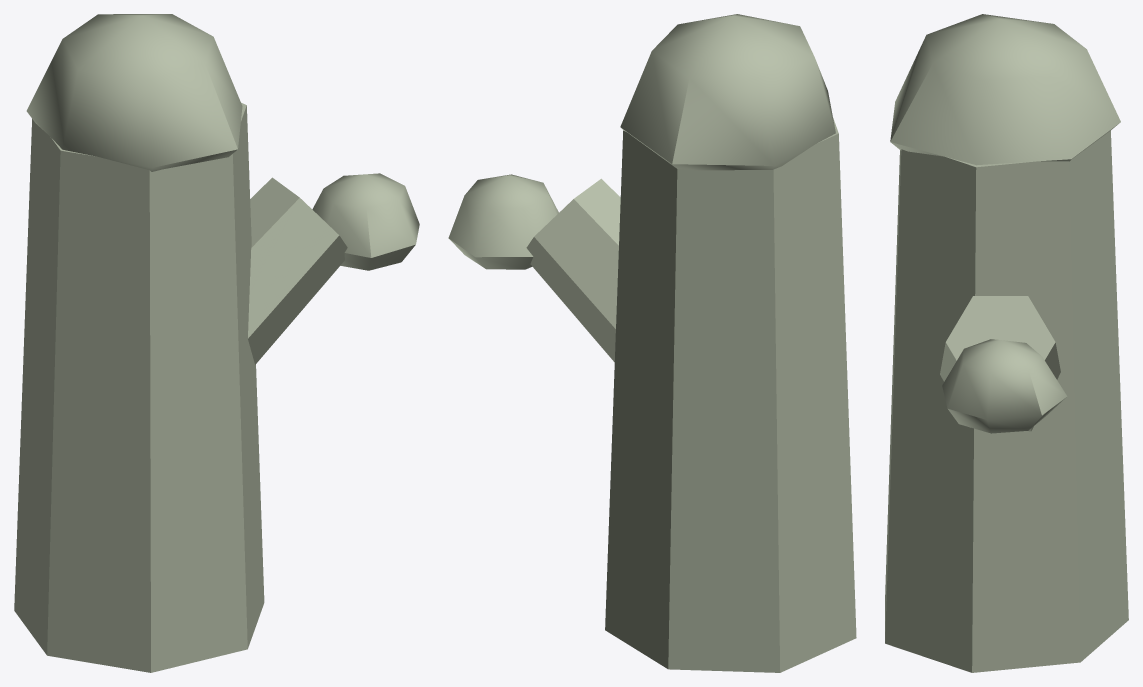
File: cactus.glb
3 renders of one model, left to right at view 1: azimuth 30°, elevation 25°; view 2: azimuth 150°, elevation 25°; view 3: azimuth 270°, elevation 25°, orthographic.
Visible parts, largest first — view 1: cactus; view 2: cactus; view 3: cactus.
Part boxes in pixels (box(x1,y1,x2,y2)): cactus: box(14, 14, 419, 672); cactus: box(448, 14, 856, 672); cactus: box(885, 14, 1128, 672).
Bounding box in the file's own units: 0.2388 × 0.362 × 0.1331.
